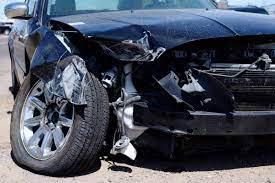bonnet-dent: (45, 6, 274, 64)
